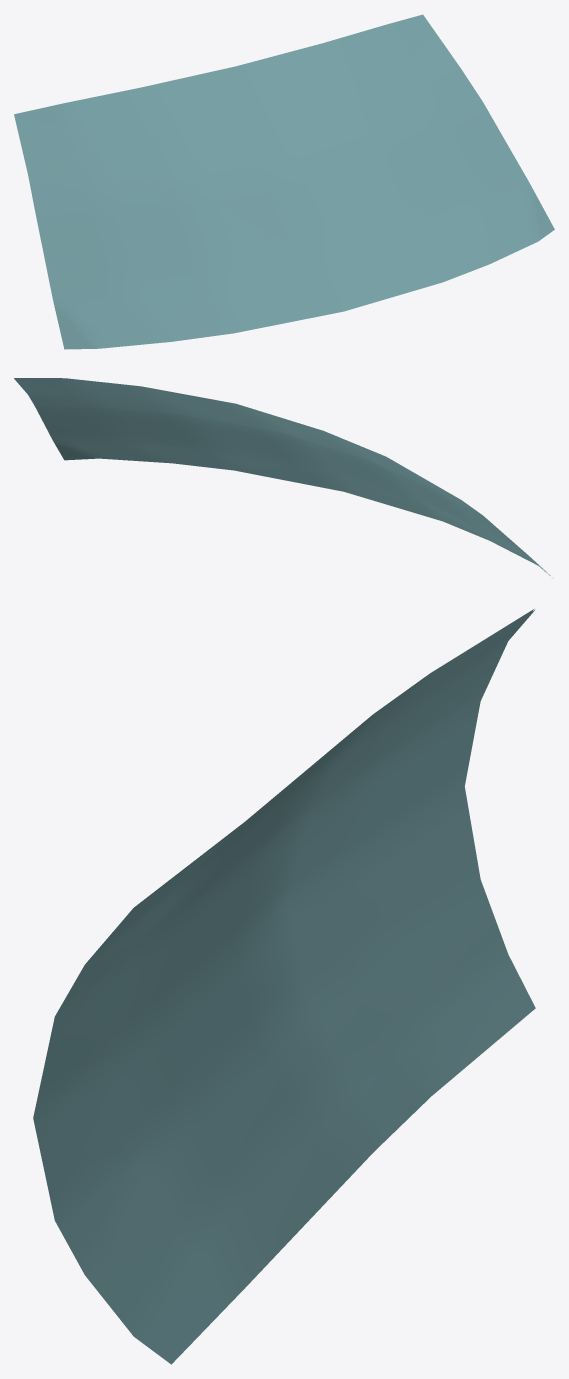
The model's file is VAN_1_Window_F_Tessellate.fbx.
3 views of the same model, one above another, from view 1: azimuth 30°, elevation 25°; view 2: azimuth 150°, elevation 25°; view 3: azimuth 270°, elevation 25° (orthographic). The views are drawn at different scales.
Parts seen in each view (by area): view 1: VAN_1_Window_F_Tessellate; view 2: VAN_1_Window_F_Tessellate; view 3: VAN_1_Window_F_Tessellate.
Boxes of the visible parts, bbox=[...] form: VAN_1_Window_F_Tessellate: bbox=[14, 14, 554, 349]; VAN_1_Window_F_Tessellate: bbox=[14, 378, 550, 575]; VAN_1_Window_F_Tessellate: bbox=[33, 608, 535, 1364].
Size of the model in its own units: 70.93 by 23.47 by 31.47.
